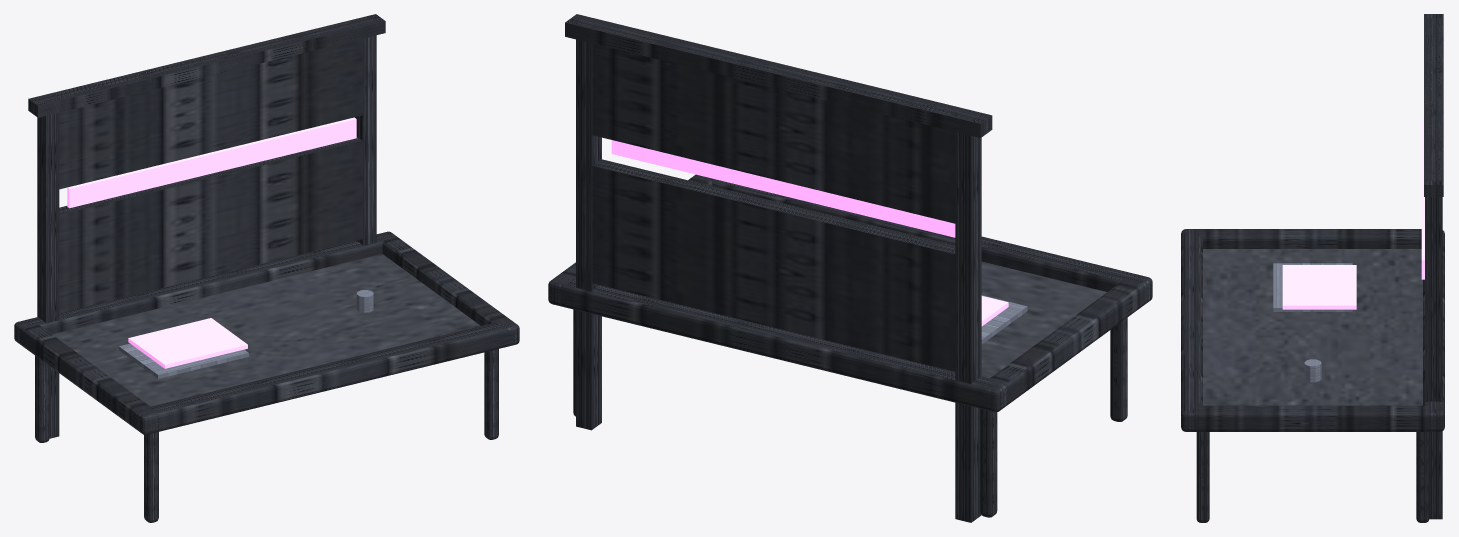
File: fun_coffeetable.glb
3 renders of one model, left to right at view 1: azimuth 30°, elevation 25°; view 2: azimuth 150°, elevation 25°; view 3: azimuth 270°, elevation 25°, orthographic. The views are drawn at different scales.
Parts seen in each view (by area): view 1: sight_shell, top, rim0, rim2, sightglow, rims0, mag2, rims2, mag, leg00, leg20, leg02; view 2: sight_shell, rim2, top, rims0, rim0, sightglow, leg02, leg00, mag, rims2; view 3: top, sight_shell, rims2, rims0, rim0, mag2, rim2, leg20, leg22, mag, sightglow, cup.
Boxes of the visible parts, x1,y1,x2,y2 form: sight_shell: (28, 14, 385, 438); top: (52, 254, 480, 406); rim0: (134, 319, 519, 434); rim2: (14, 231, 396, 345); sightglow: (67, 117, 356, 208); rims0: (14, 319, 158, 434); mag2: (128, 318, 247, 368); rims2: (377, 232, 519, 346); mag: (119, 343, 248, 378); leg00: (144, 432, 158, 522); leg20: (484, 349, 498, 439); leg02: (35, 355, 49, 442); sight_shell: (565, 14, 992, 522); rim2: (548, 278, 1008, 411); top: (981, 261, 1106, 378); rims0: (980, 279, 1149, 412); rim0: (697, 175, 1152, 305); sightglow: (611, 140, 955, 237); leg02: (980, 408, 997, 517); leg00: (1110, 317, 1127, 421); mag: (981, 295, 1027, 344); rims2: (548, 174, 712, 307); top: (1203, 249, 1422, 405); sight_shell: (1424, 14, 1443, 519); rims2: (1181, 405, 1444, 431); rims0: (1181, 229, 1444, 248); rim0: (1181, 229, 1202, 431); mag2: (1282, 265, 1356, 309); rim2: (1423, 231, 1444, 431); leg20: (1196, 432, 1209, 522); leg22: (1416, 432, 1429, 522); mag: (1273, 263, 1352, 311); sightglow: (1421, 119, 1424, 279); cup: (1304, 359, 1321, 382).
Size of the model in its own units: 2 by 1.7 by 1.2.
Materials: 6 (4 with a texture image).
